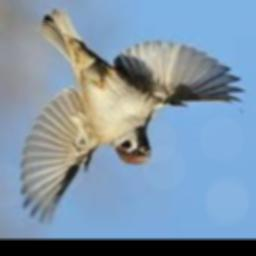Sparrow: (21, 7, 245, 226)
